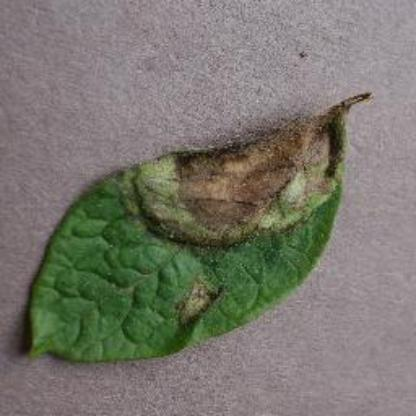Late-Blight: (10, 73, 390, 385)
